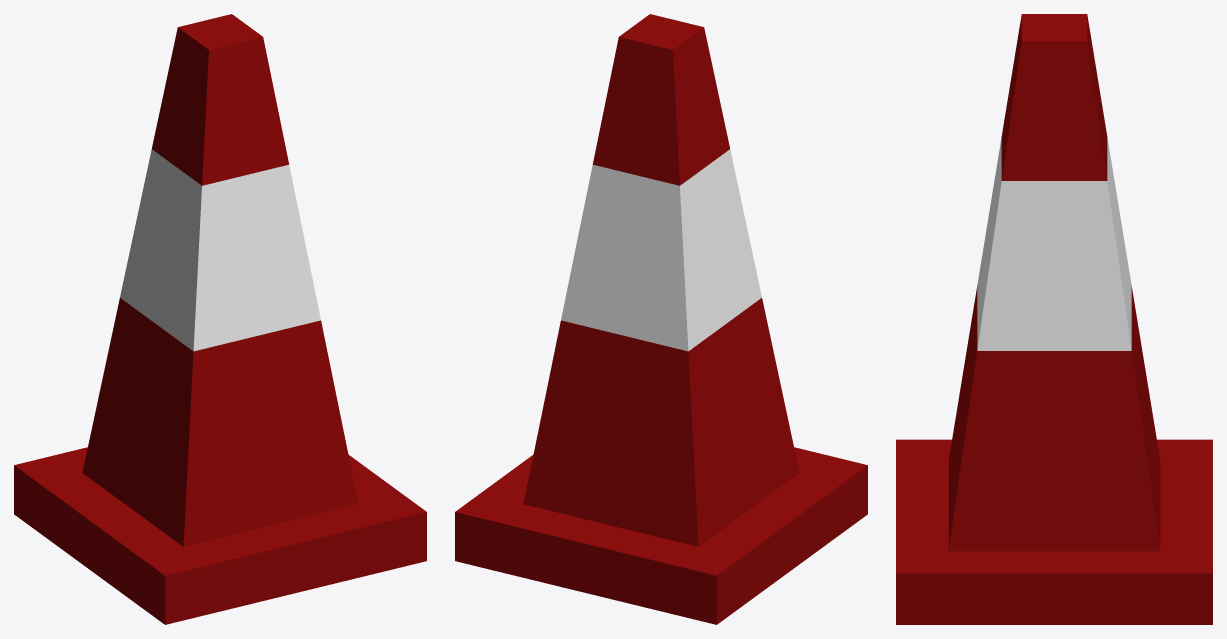
Rendered from Traffic cone.FBX.
3 views of the same model, side by side, from view 1: azimuth 30°, elevation 25°; view 2: azimuth 150°, elevation 25°; view 3: azimuth 270°, elevation 25° (orthographic). The views are drawn at different scales.
Parts seen in each view (by area): view 1: Box188; view 2: Box188; view 3: Box188.
Part boxes in pixels (box(x1,y1,x2,y2)): Box188: box(14, 14, 426, 624); Box188: box(455, 14, 867, 624); Box188: box(896, 14, 1212, 624).
Bounding box in the file's own units: 11.81 × 21.81 × 11.81.
